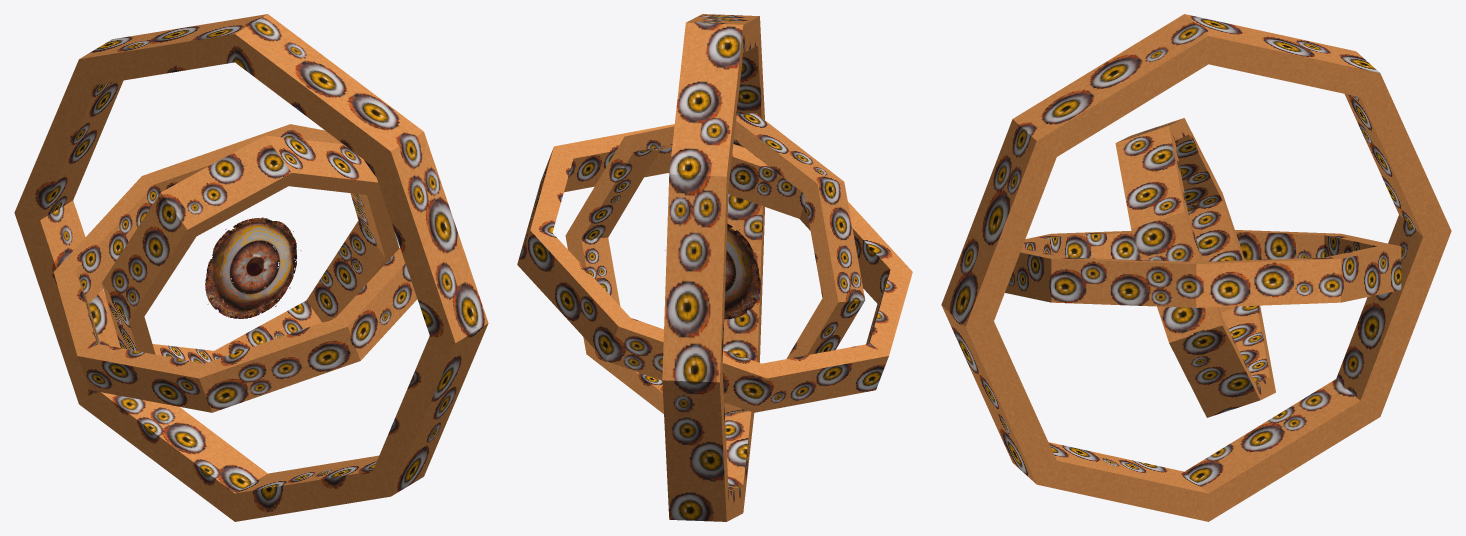
Rendered from ophanim_000008.obj.
The picture shows the model from 3 angles, left to right: view 1: azimuth 30°, elevation 25°; view 2: azimuth 150°, elevation 25°; view 3: azimuth 270°, elevation 25°; orthographic projection.
Parts seen in each view (by area): view 1: Ring3, Ring2, Ring1, Eye; view 2: Ring3, Ring2, Ring1, Eye; view 3: Ring3, Ring2, Ring1.
Boxes of the visible parts, x1,y1,x2,y2 form: Ring3: [14, 14, 488, 521]; Ring2: [53, 124, 417, 412]; Ring1: [101, 135, 399, 363]; Eye: [205, 217, 301, 318]; Ring3: [662, 14, 764, 521]; Ring2: [517, 124, 912, 412]; Ring1: [565, 113, 864, 415]; Eye: [665, 223, 760, 319]; Ring3: [941, 14, 1451, 521]; Ring2: [1005, 230, 1401, 307]; Ring1: [1115, 118, 1275, 417].
Bounding box in the file's own units: 0.2587 × 0.3468 × 0.33.
Materials: 2 (2 with a texture image).
